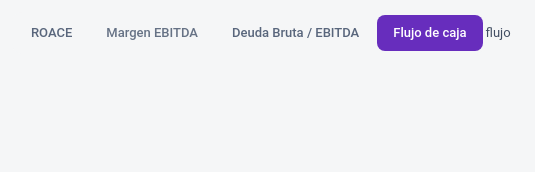
Test case: SegmentedTabs › follows the controlled value
This screenshot has width=535, height=172.
Click the tab "ROACE": (52, 33) left=15, top=15, right=88, bottom=50
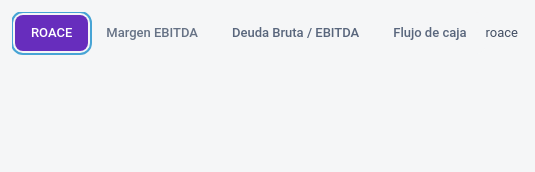
Result: the text "roace" is shown at left=486, top=25, right=518, bottom=40
